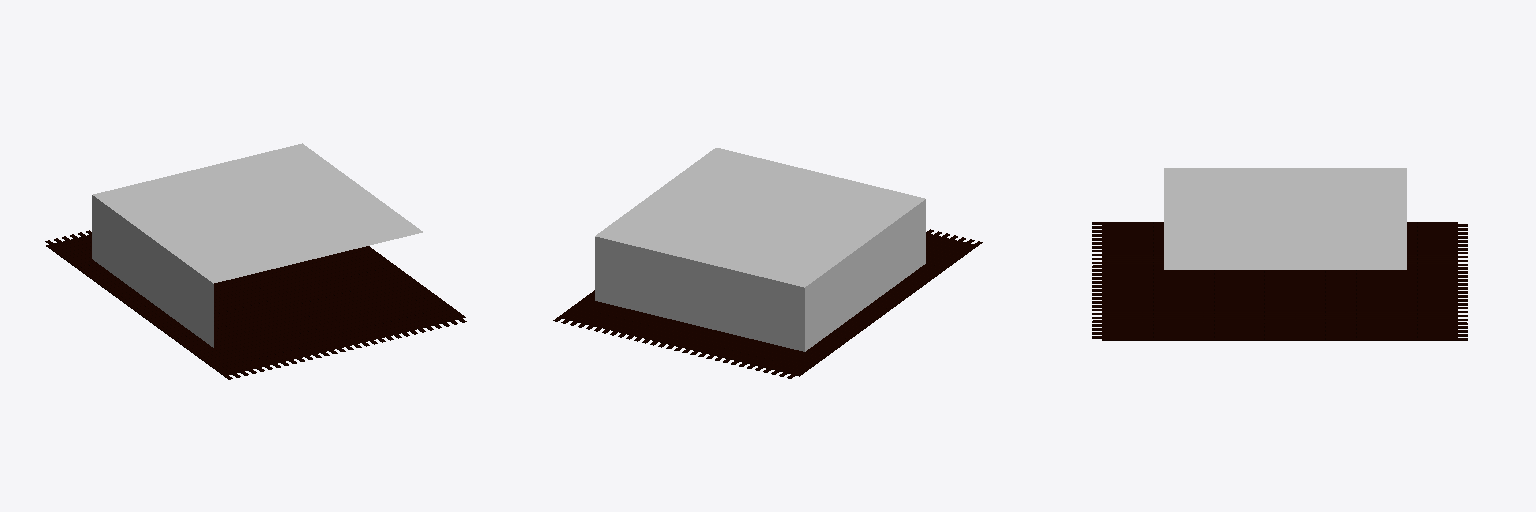
The model's file is desk.obj.
The picture shows the model from 3 angles: view 1: azimuth 30°, elevation 25°; view 2: azimuth 150°, elevation 25°; view 3: azimuth 270°, elevation 25°; orthographic projection.
Parts seen in each view (by area): view 1: Cube.006_Cube.122, Cube.005_Cube.008; view 2: Cube.006_Cube.122, Cube.005_Cube.008; view 3: Cube.005_Cube.008, Cube.006_Cube.122.
Boxes of the visible parts, x1,y1,x2,y2 form: Cube.006_Cube.122: [92, 143, 422, 347]; Cube.005_Cube.008: [45, 230, 466, 379]; Cube.006_Cube.122: [595, 148, 925, 351]; Cube.005_Cube.008: [553, 229, 982, 378]; Cube.005_Cube.008: [1092, 222, 1467, 340]; Cube.006_Cube.122: [1164, 168, 1406, 269].
Size of the model in its own units: 26.89 by 8.36 by 36.16.